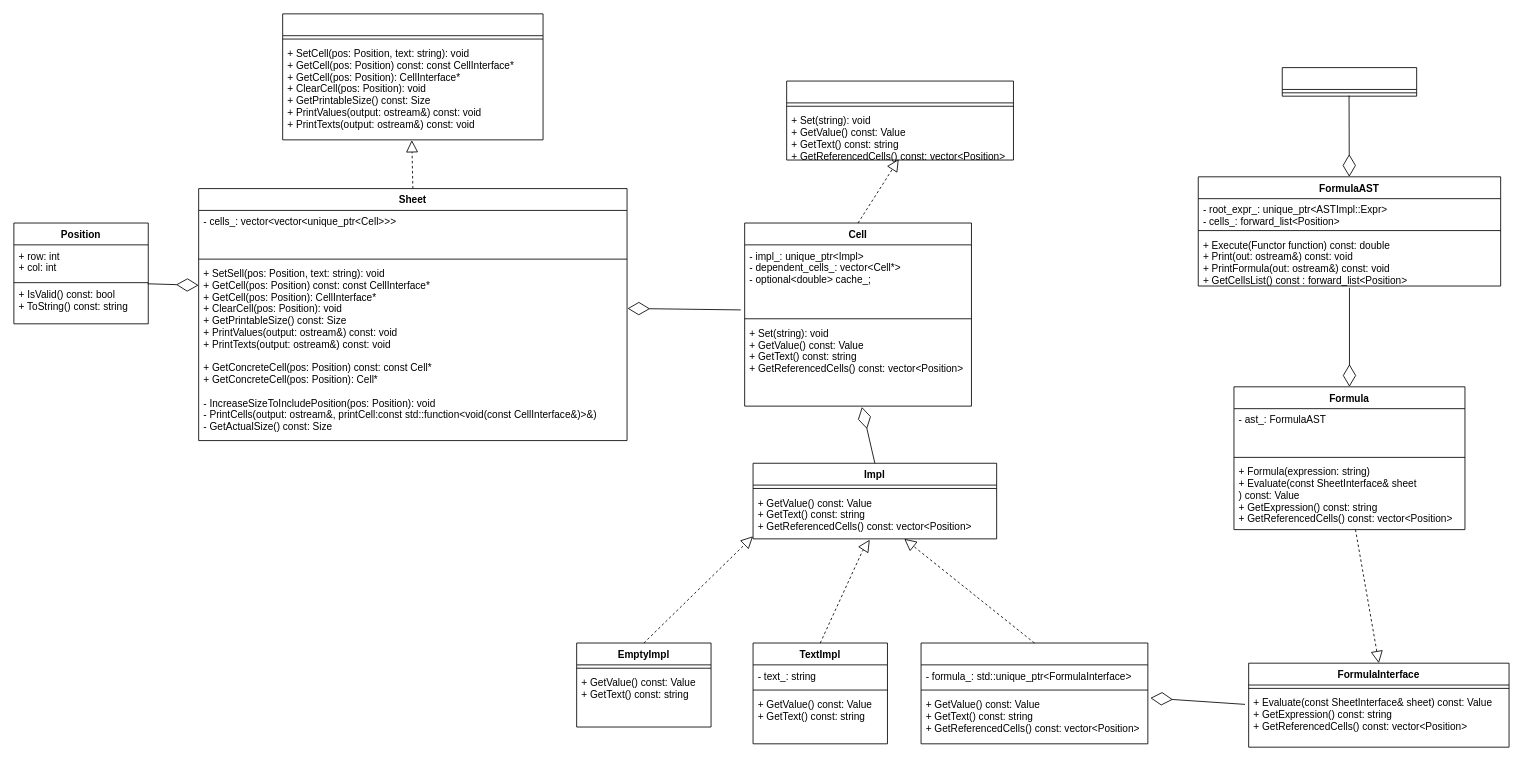
Image size: 1523x761. Some labels were removed from this diagram. Here are the shapes that lost their labels. From the top down, the box of each, then its label:
(282, 13, 543, 140): SheetInterface
(1281, 67, 1417, 96): ASTImpl::Expr
(786, 80, 1013, 160): CellInterface
(920, 642, 1148, 744): FormulaImpl
